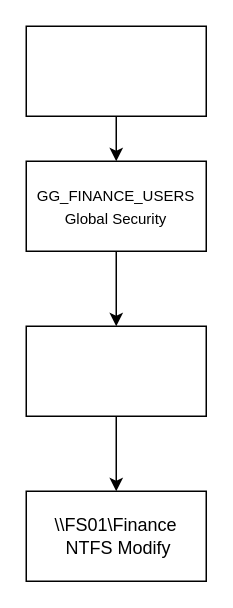
Some shapes in this 233 by 608 pixel diagram are drawn without their labels. Each missing label, with the centre of its shape:
"DL_FINANCE_RW Domain Local Group" belongs at pixel 115 370.
"Sarah Tremblay Account" belongs at pixel 115 70.
